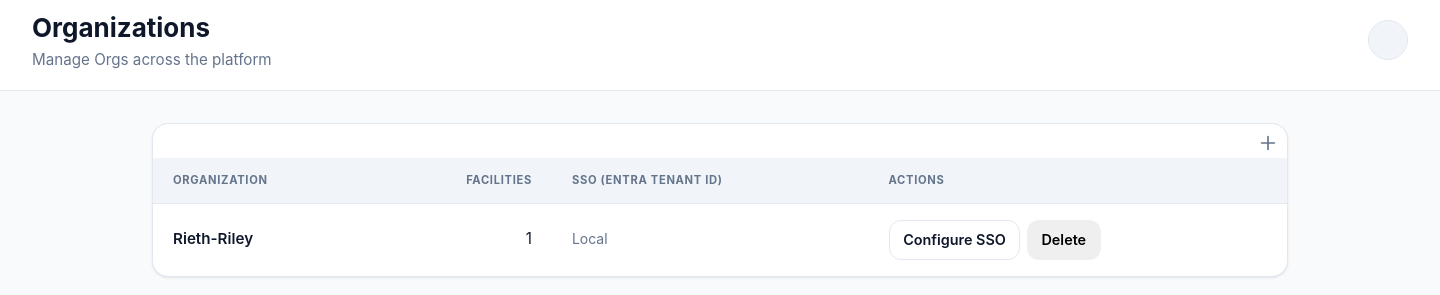
Test: OrgsScreen — configure SSO (inline edit) › edits a row and sets the tenant id
Check: the text "Rieth-Riley" is shown, box [173,229,253,248]
Click the button "Configure SSO" at (954, 240), box [888,220,1020,260]
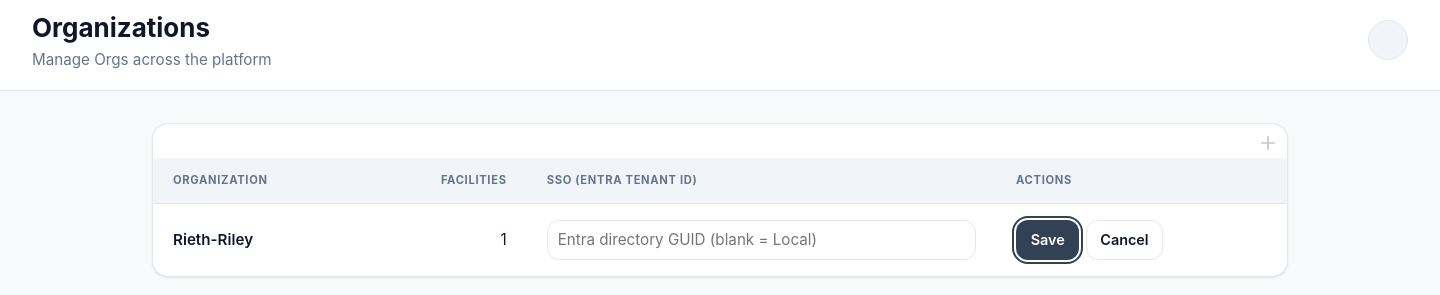
Type "abc-123" into the field named "tenant id" at (761, 240), box [547,220,976,260]
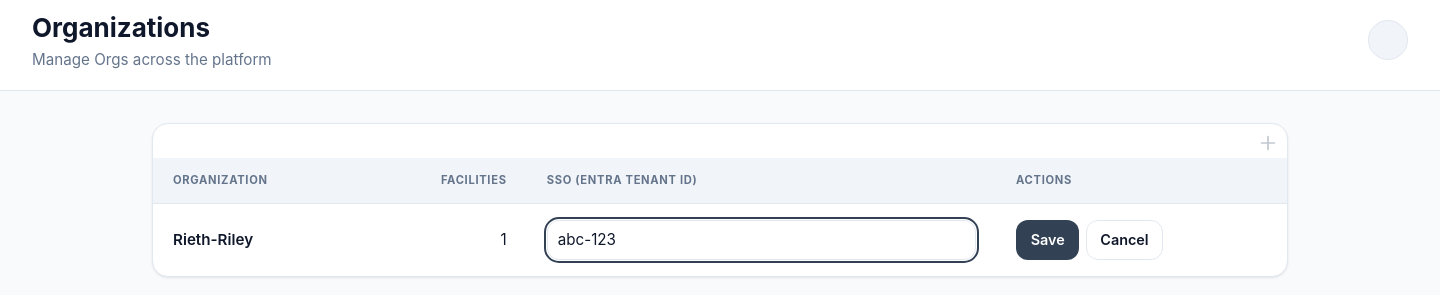
Click the button "Save" at (1048, 240), box [1016,220,1079,260]
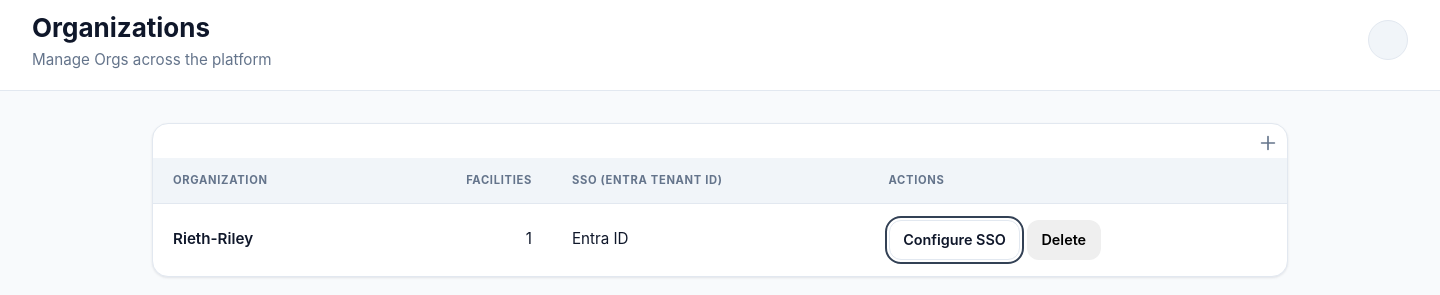
Check: the text "Entra ID" is shown, box [552,203,868,276]
